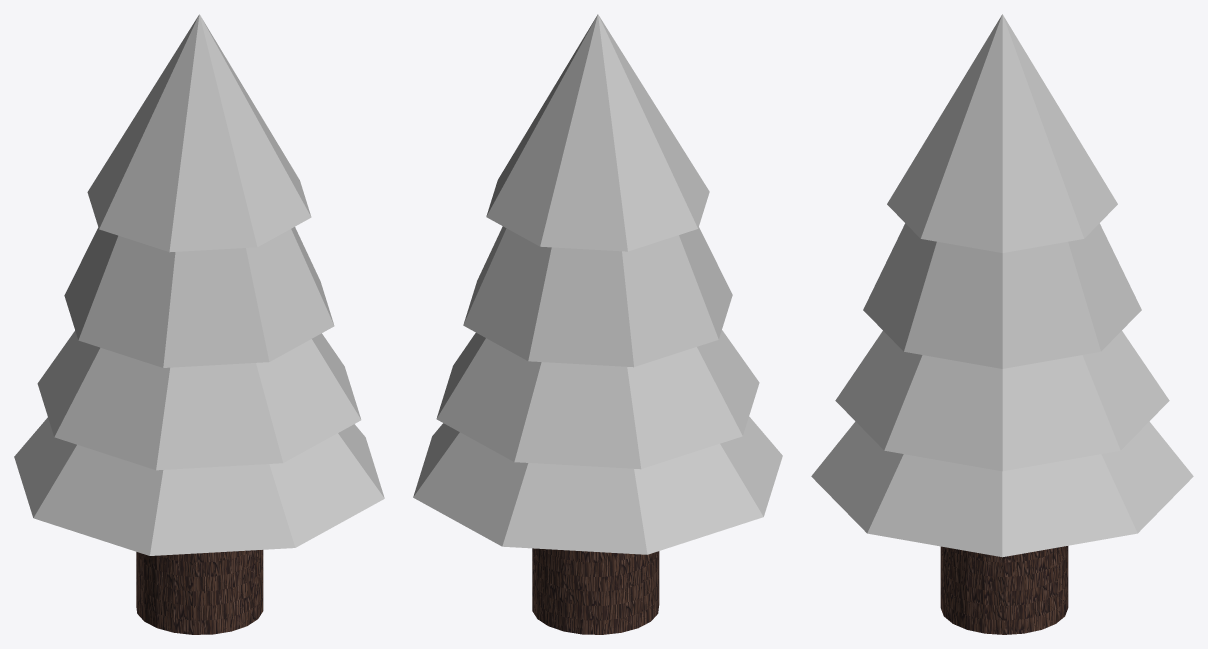
The model's file is tree.fbx.
3 renders of one model, left to right at view 1: azimuth 30°, elevation 25°; view 2: azimuth 150°, elevation 25°; view 3: azimuth 270°, elevation 25°, orthographic.
Parts seen in each view (by area): view 1: Cone, Cylinder.001; view 2: Cone, Cylinder.001; view 3: Cone, Cylinder.001.
Part boxes in pixels (box(x1,y1,x2,y2)): Cone: box(14, 14, 384, 555); Cylinder.001: box(136, 550, 263, 634); Cone: box(413, 14, 782, 554); Cylinder.001: box(532, 548, 659, 634); Cone: box(811, 14, 1193, 557); Cylinder.001: box(940, 546, 1068, 634).
Bounding box in the file's own units: 600 × 1027 × 600.
